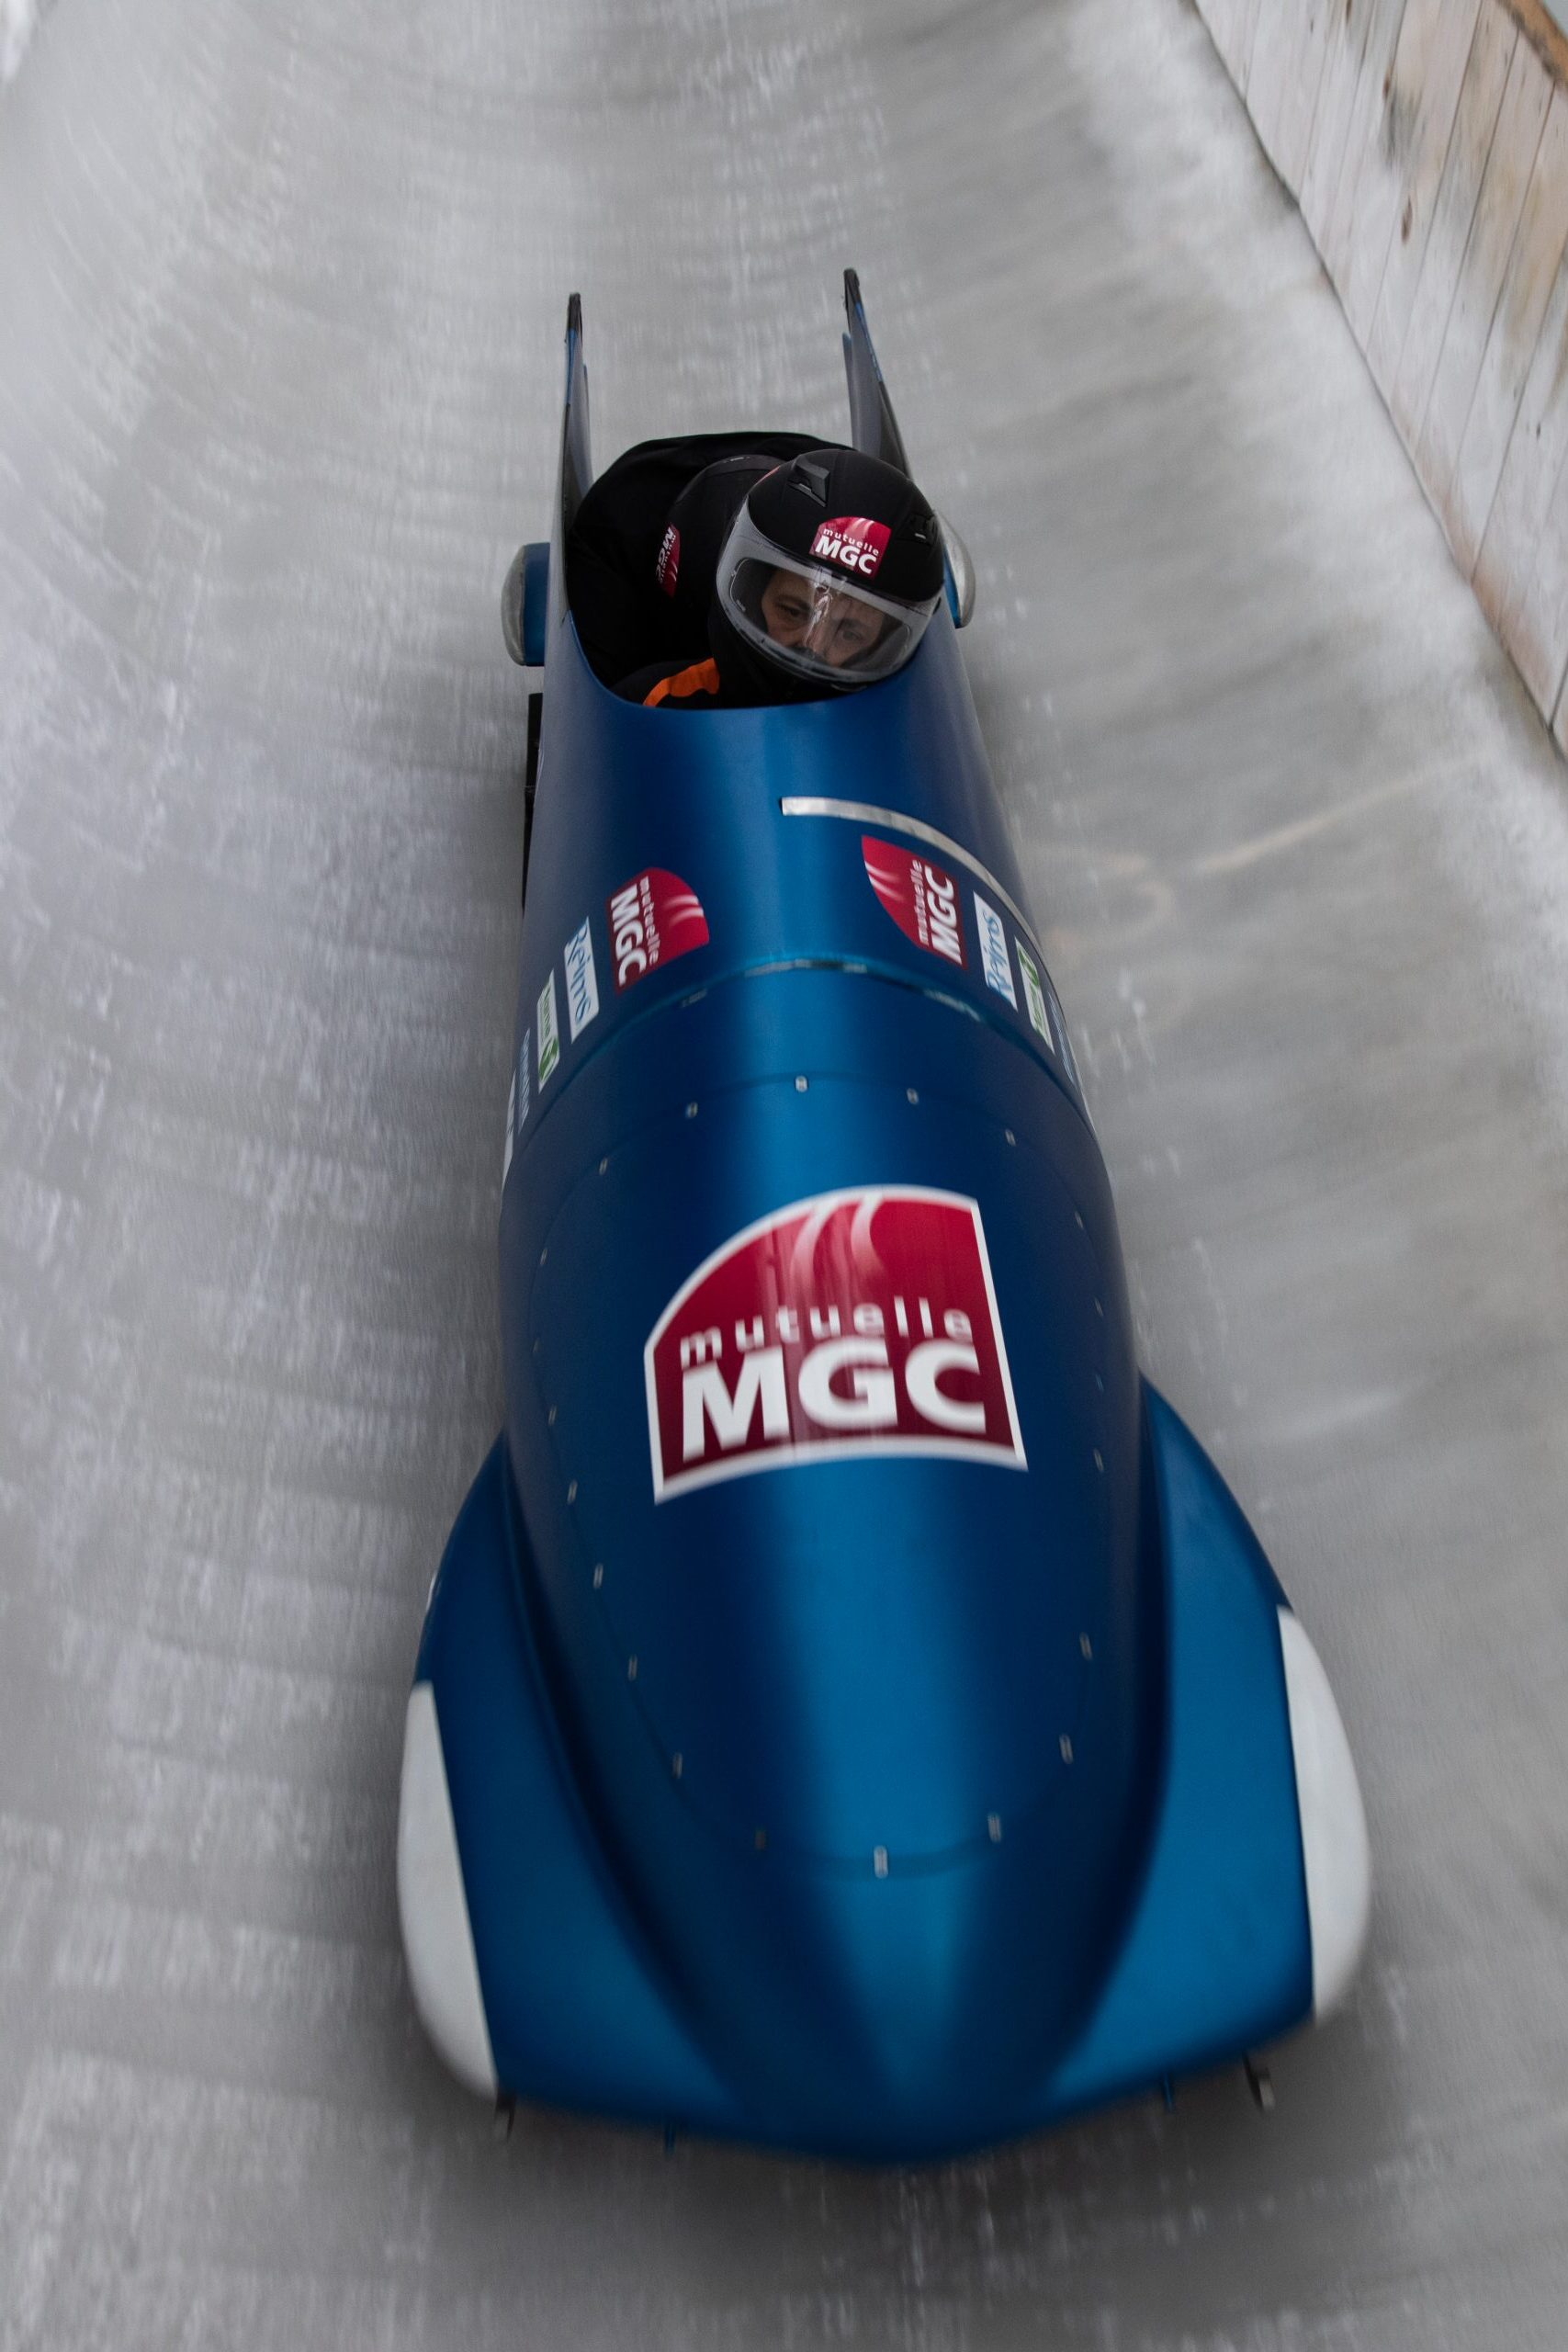Bobsleigh: (389, 294, 1377, 2165)
